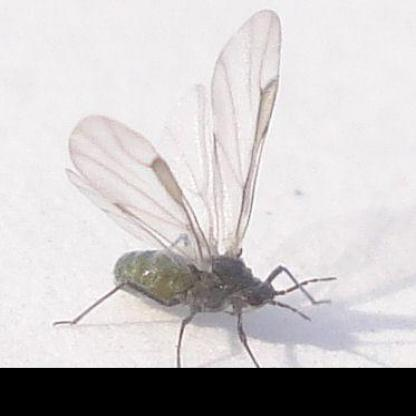aphid: (53, 5, 348, 365)
